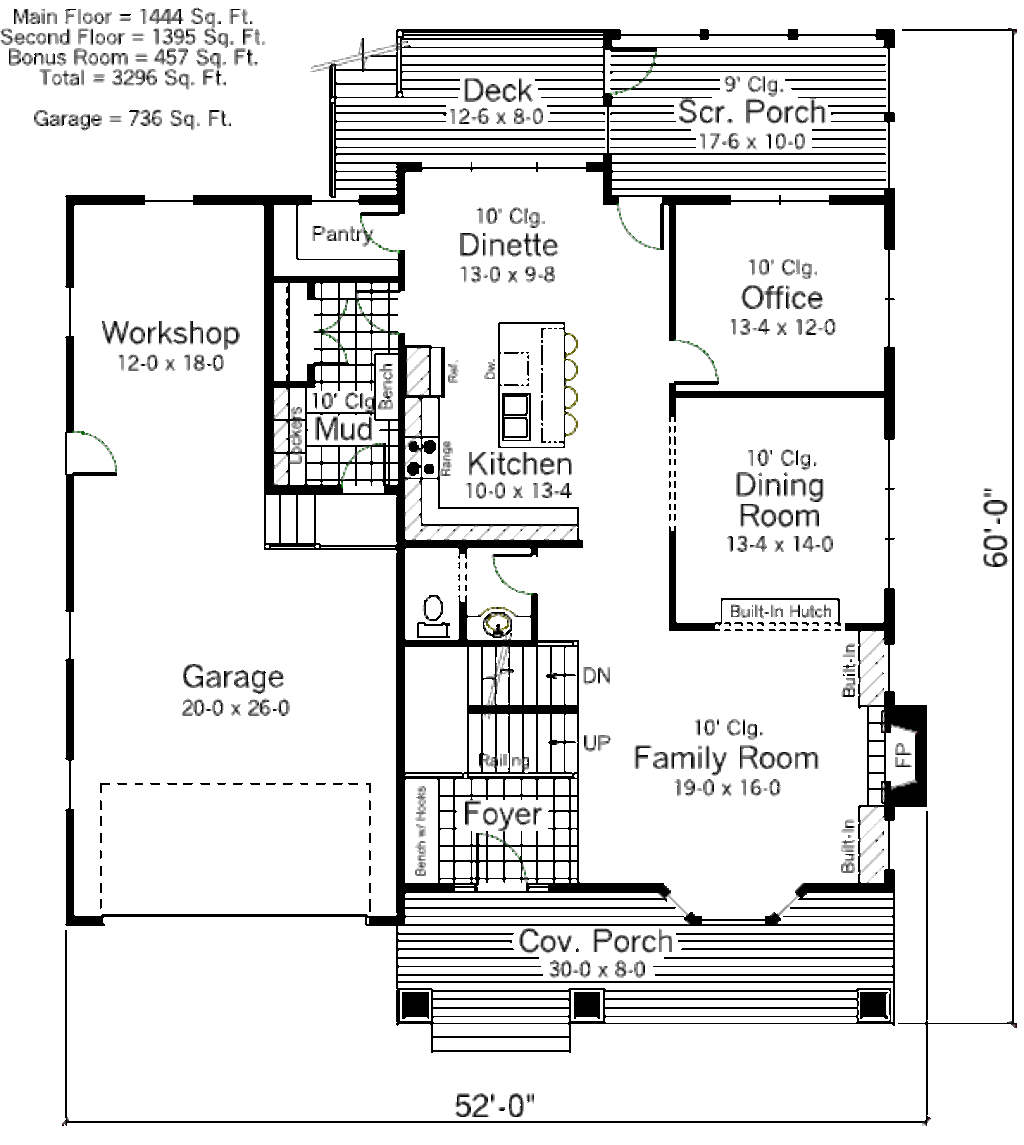door: (462, 834, 537, 887), (608, 192, 666, 258), (54, 428, 129, 478), (598, 44, 666, 98), (660, 333, 722, 387), (358, 203, 415, 258), (334, 437, 386, 497), (482, 551, 542, 597), (354, 287, 406, 338)
kitchen_bar: (480, 297, 581, 453)
large_sink: (411, 584, 453, 647)
stairs: (462, 640, 595, 777), (324, 30, 406, 197)
twin_sink: (497, 385, 542, 440)
window: (652, 888, 813, 934), (874, 233, 905, 353), (881, 433, 899, 593), (59, 608, 93, 661), (726, 191, 832, 208), (59, 279, 87, 343), (141, 188, 198, 212), (59, 753, 81, 811)
